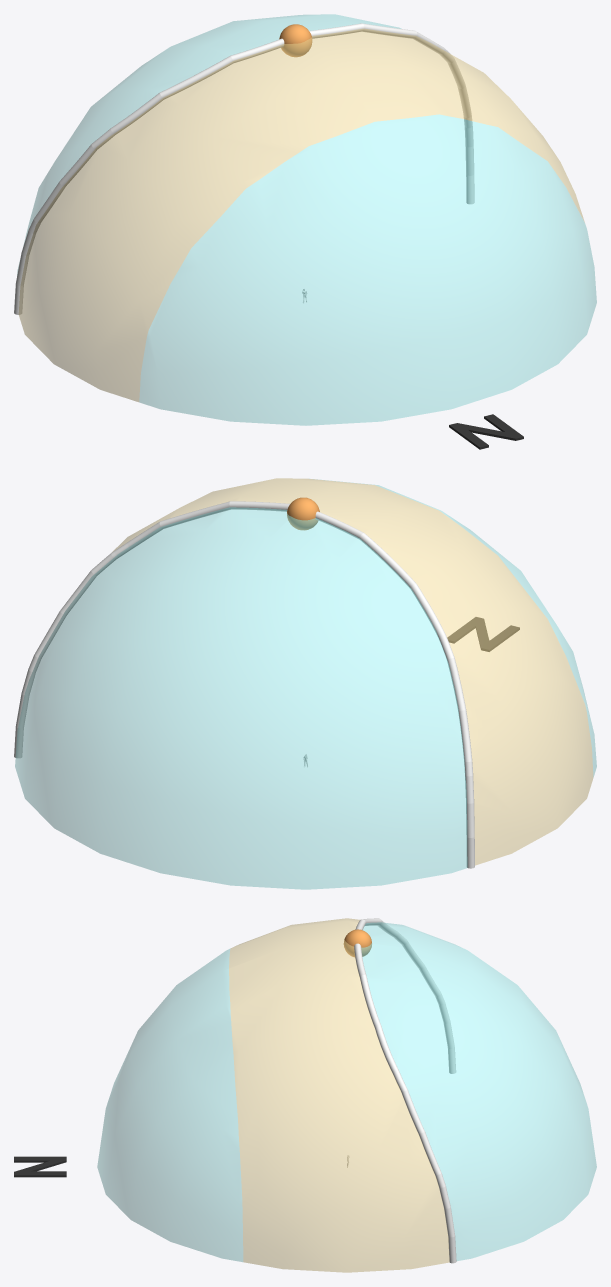
Rendered from solverao.glb.
3 renders of one model, top to bottom at view 1: azimuth 30°, elevation 25°; view 2: azimuth 150°, elevation 25°; view 3: azimuth 270°, elevation 25°, orthographic. The views are drawn at different scales.
Parts seen in each view (by area): view 1: object 5, object 6, N, object 4; view 2: object 5, object 6, N, object 4; view 3: object 5, object 6, N, object 4.
Part boxes in pixels (x1,y1,x2,y2): object 5: (17,14,596,425); object 6: (14,23,474,314); N: (449,414,523,449); object 4: (279,24,312,57); object 5: (15,478,596,889); object 6: (14,501,474,868); N: (447,617,519,651); object 4: (287,497,319,530); object 5: (97,918,596,1272); object 6: (354,918,456,1263); N: (14,1156,66,1177); object 4: (343,929,371,957).
Size of the model in its own units: 3.5 by 1.82 by 4.08.
